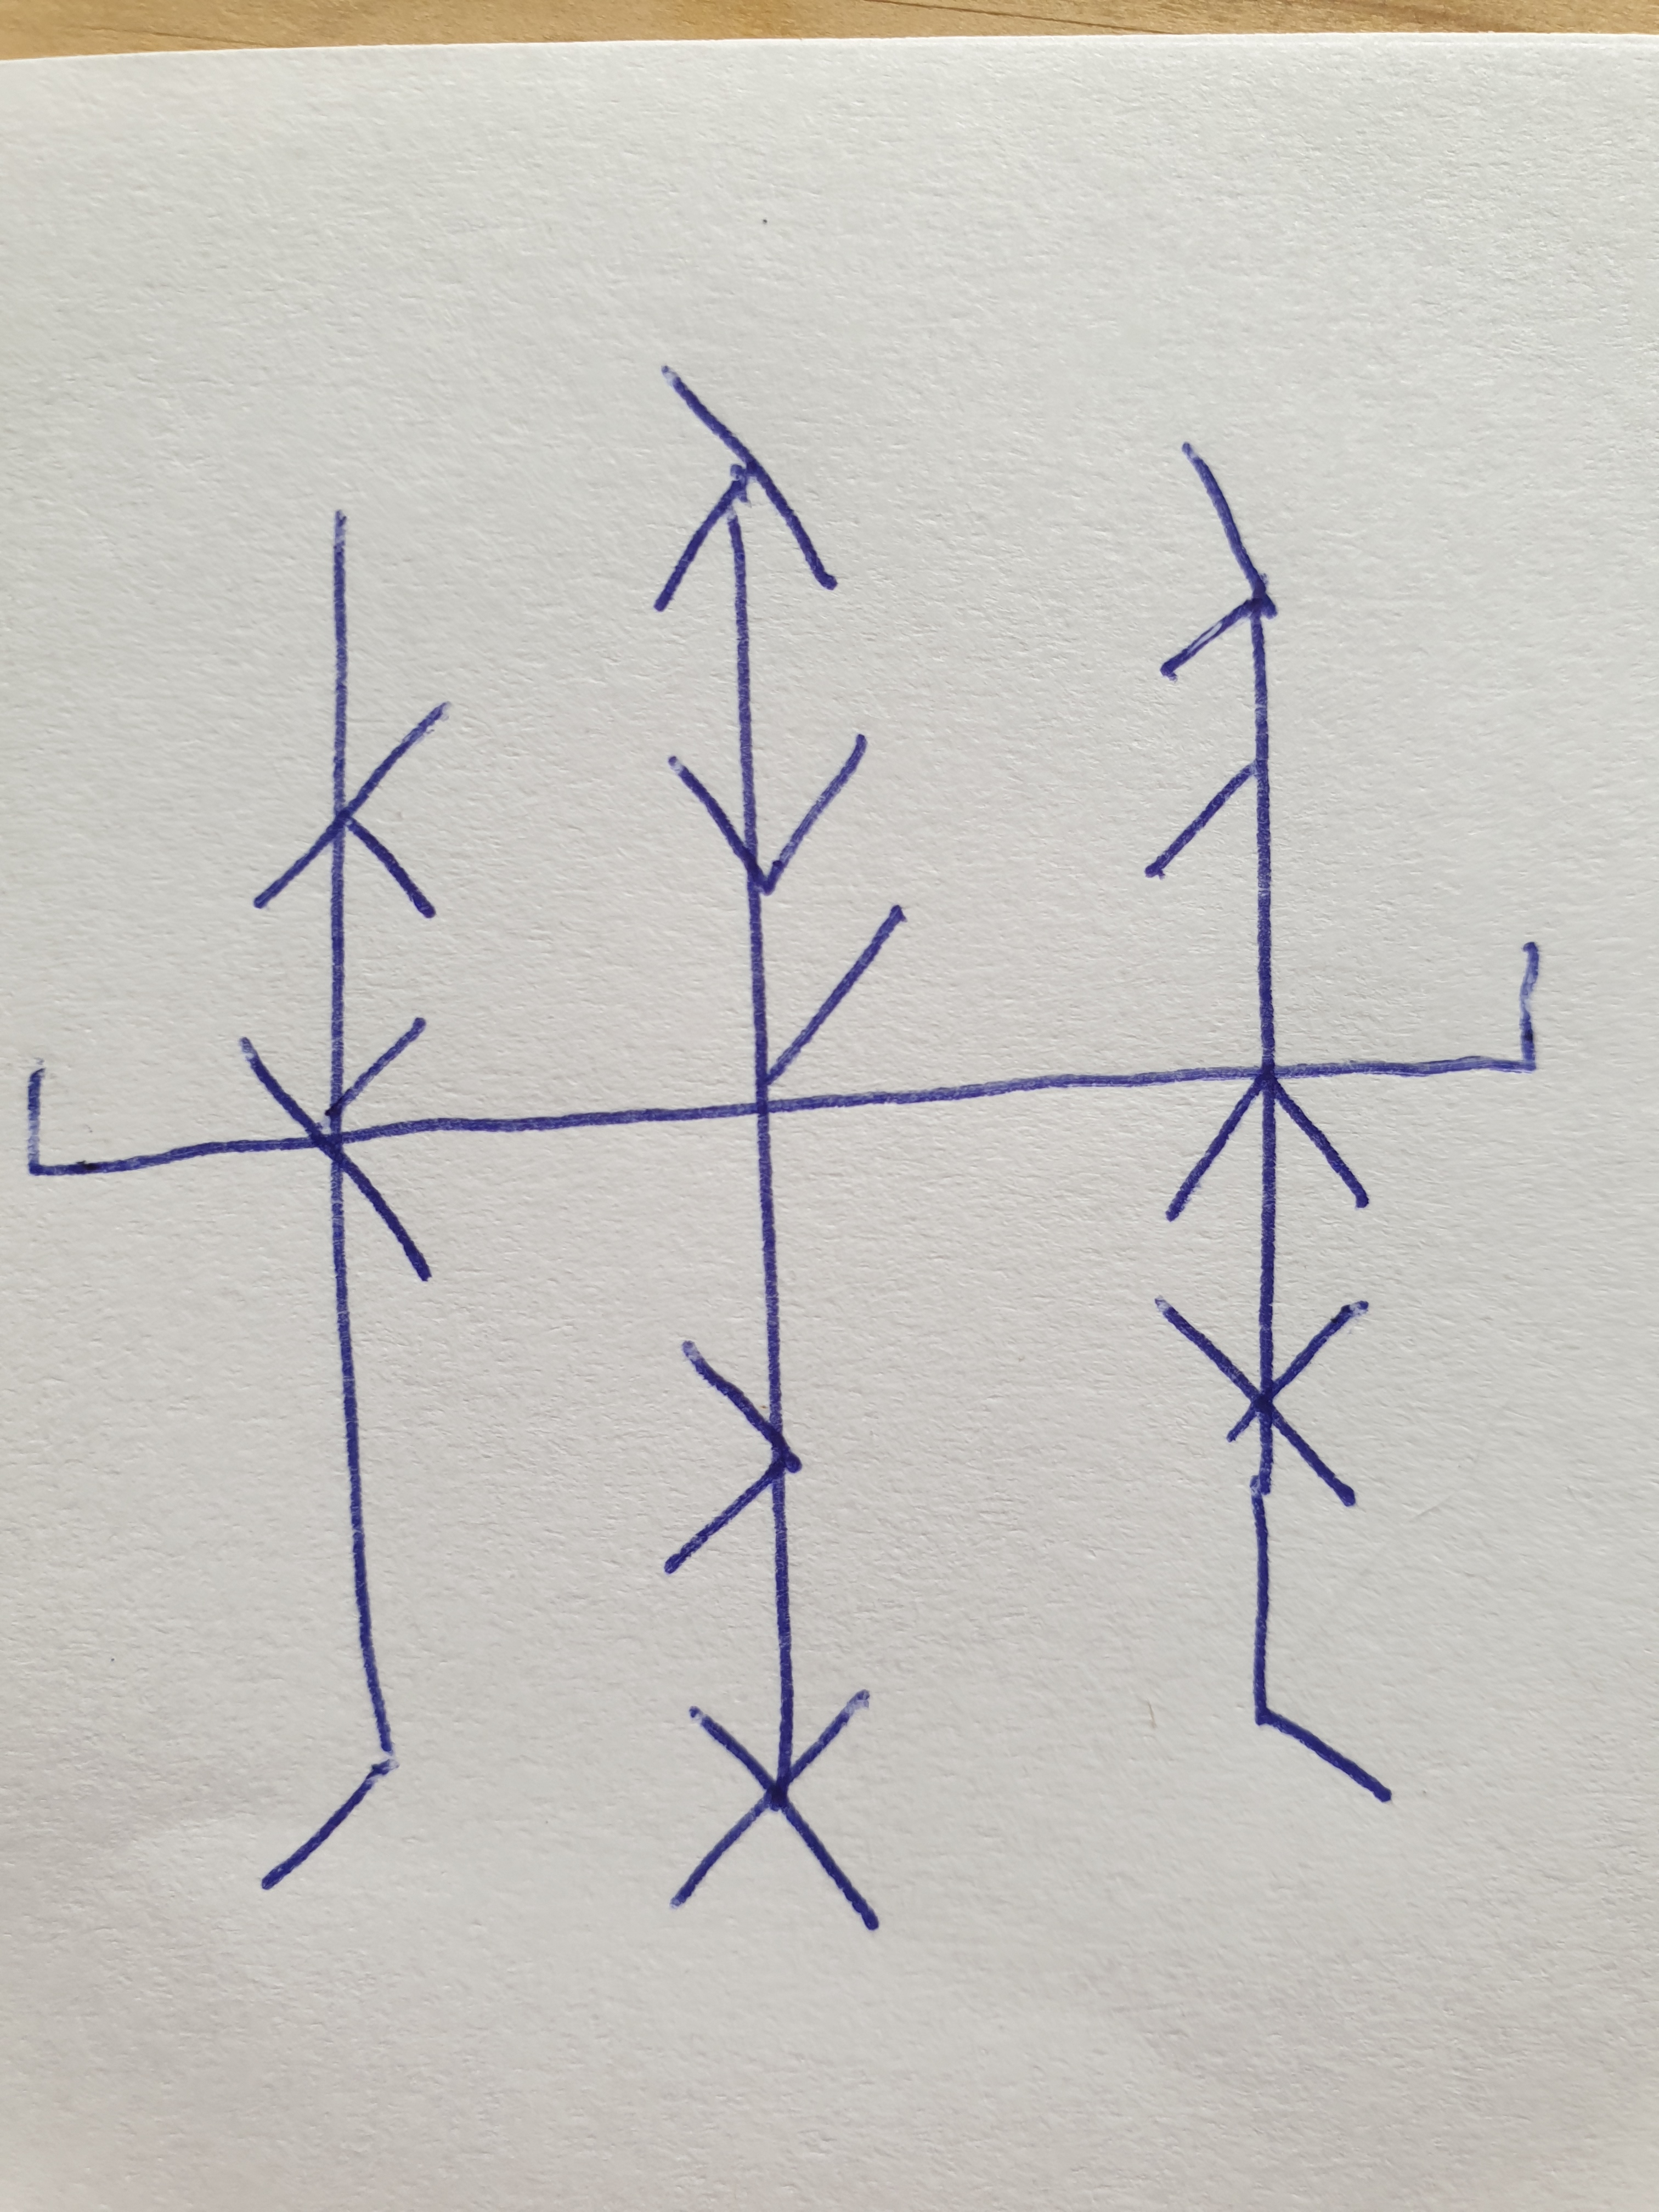Bar: (655, 362, 906, 1932), (1143, 444, 1396, 1806), (237, 510, 451, 1886)
Barcode: (24, 362, 1546, 1932)
End: (1279, 948, 1546, 1078)
Start: (23, 1061, 244, 1179)
